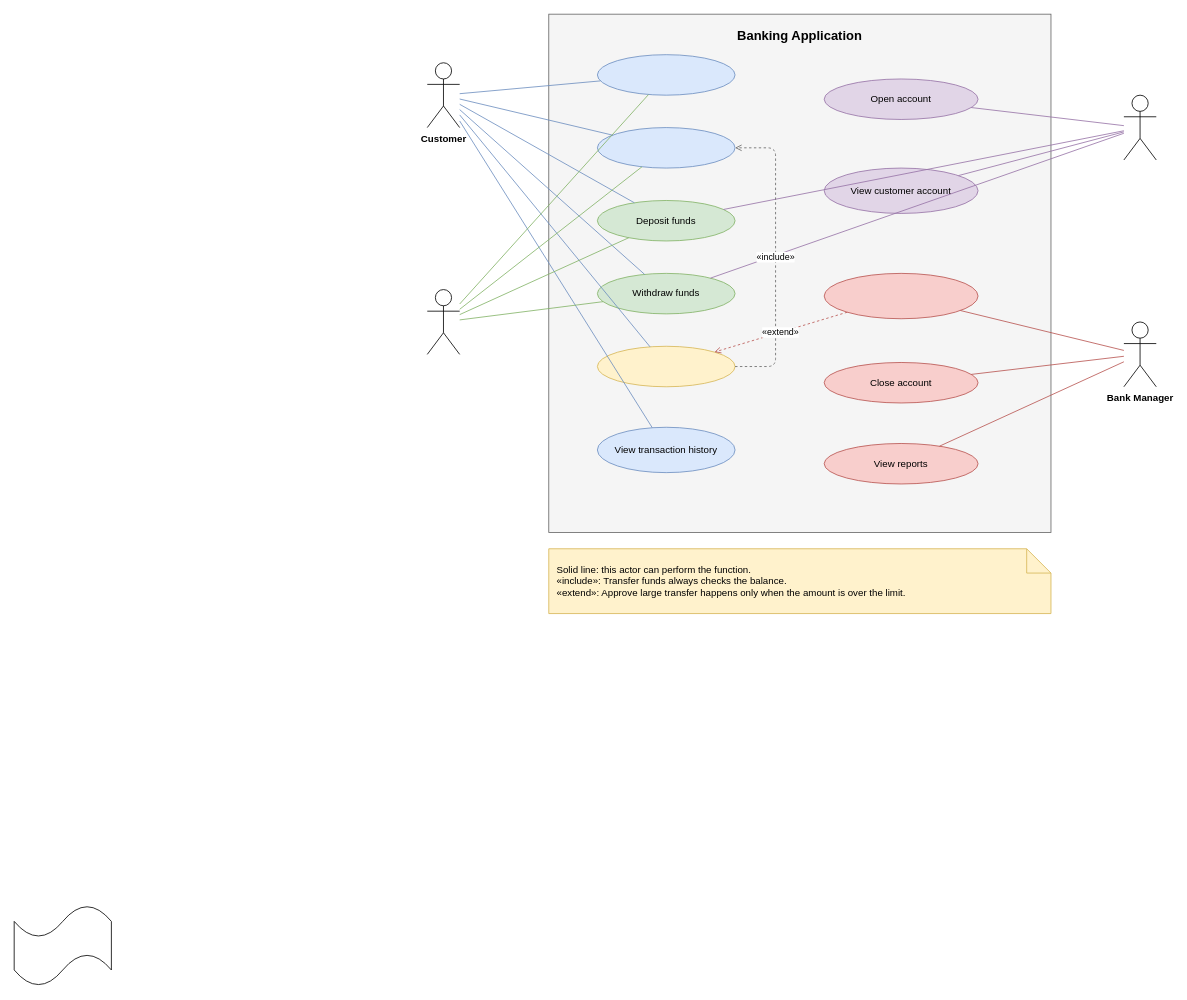
Image size: 1187x1000. Some labels were removed from this diagram. The shapes that lost their labels are listed below. From the top down, each one's centre as x and y in pixels, then its label:
At point (666, 74): "Log in".
At point (666, 147): "View balance".
At point (1139, 127): "Bank Teller".
At point (900, 296): "Approve large transfer".
At point (443, 321): "ATM".
At point (666, 366): "Transfer funds".
